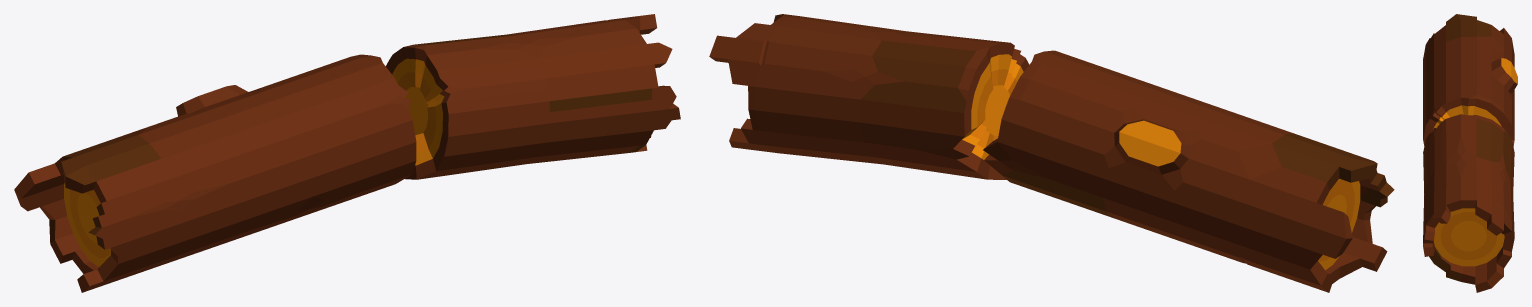
The model's file is Broken log_32.fbx.
The picture shows the model from 3 angles, left to right: view 1: azimuth 30°, elevation 25°; view 2: azimuth 150°, elevation 25°; view 3: azimuth 270°, elevation 25°; orthographic projection. The views are drawn at different scales.
Parts seen in each view (by area): view 1: Circle.404, Circle.401; view 2: Circle.404, Circle.401; view 3: Circle.401, Circle.404.
Boxes of the visible parts, x1,y1,x2,y2 form: Circle.404: (14, 54, 416, 292); Circle.401: (386, 14, 680, 179); Circle.404: (983, 50, 1394, 292); Circle.401: (709, 14, 1029, 179); Circle.401: (1423, 114, 1514, 292); Circle.404: (1423, 14, 1517, 146).
Size of the model in its own units: 111 by 25.83 by 21.48.
